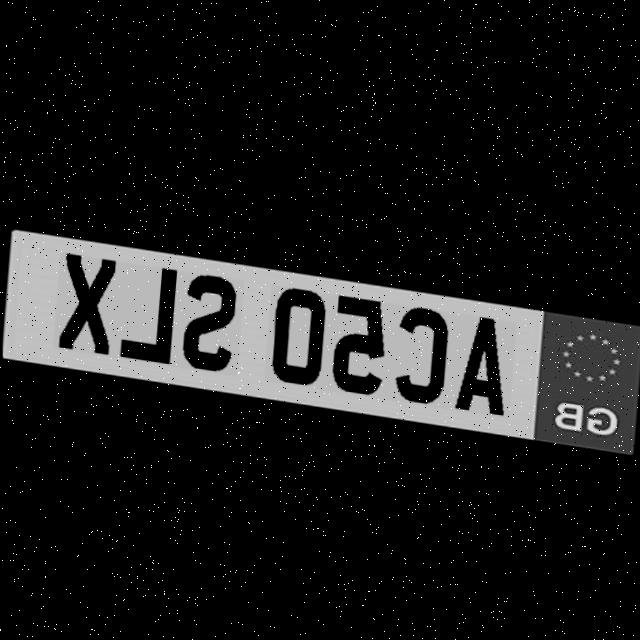license-plates: (2, 228, 640, 454)
